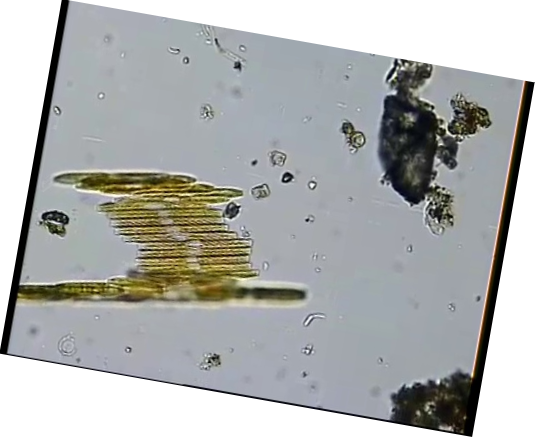Bacillaria: (137, 257, 249, 264), (135, 249, 247, 256), (126, 233, 238, 240), (116, 218, 228, 225), (109, 207, 221, 214)
